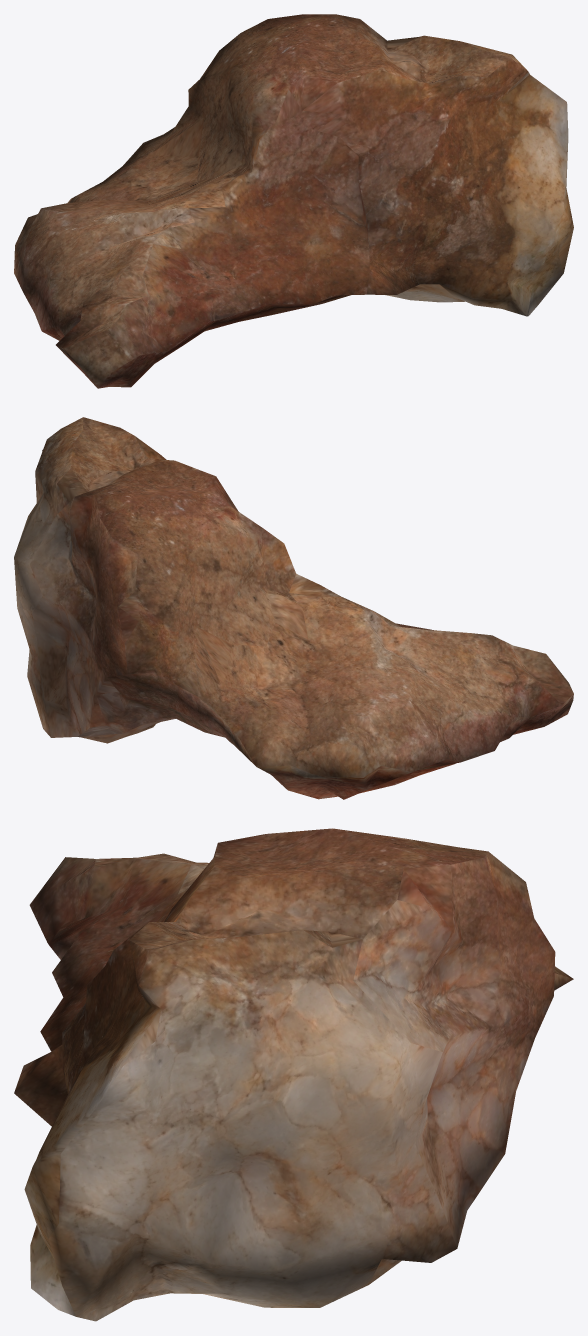
Rendered from SM_Item_stone.gltf.
The picture shows the model from 3 angles, top to bottom: view 1: azimuth 30°, elevation 25°; view 2: azimuth 150°, elevation 25°; view 3: azimuth 270°, elevation 25°; orthographic projection. The views are drawn at different scales.
Visible parts, largest first — view 1: SM_Item_stone; view 2: SM_Item_stone; view 3: SM_Item_stone.
Boxes of the visible parts, left/top/right/bottom form: SM_Item_stone: left=14, top=14, right=573, bottom=388; SM_Item_stone: left=14, top=417, right=573, bottom=799; SM_Item_stone: left=14, top=828, right=573, bottom=1321.
Bounding box in the file's own units: 0.1895 × 0.092 × 0.1152.
Materials: 1 (1 with a texture image).
